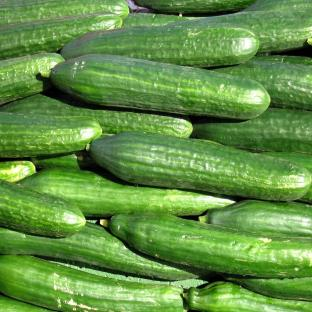Cucumber: (90, 132, 310, 200), (50, 55, 269, 119), (102, 214, 311, 277), (0, 222, 208, 280), (0, 256, 188, 311), (20, 169, 235, 217), (61, 20, 258, 67), (0, 90, 192, 137), (0, 13, 122, 59), (191, 108, 311, 153), (198, 10, 311, 54), (214, 59, 311, 110), (0, 181, 85, 237), (0, 113, 101, 157), (199, 200, 311, 238), (184, 282, 311, 311), (0, 53, 64, 104), (222, 274, 311, 300), (136, 0, 255, 13), (32, 150, 102, 171), (262, 152, 311, 174), (123, 13, 187, 27), (0, 295, 50, 311), (251, 55, 311, 68), (244, 0, 311, 11), (0, 161, 35, 182), (308, 39, 311, 44)
